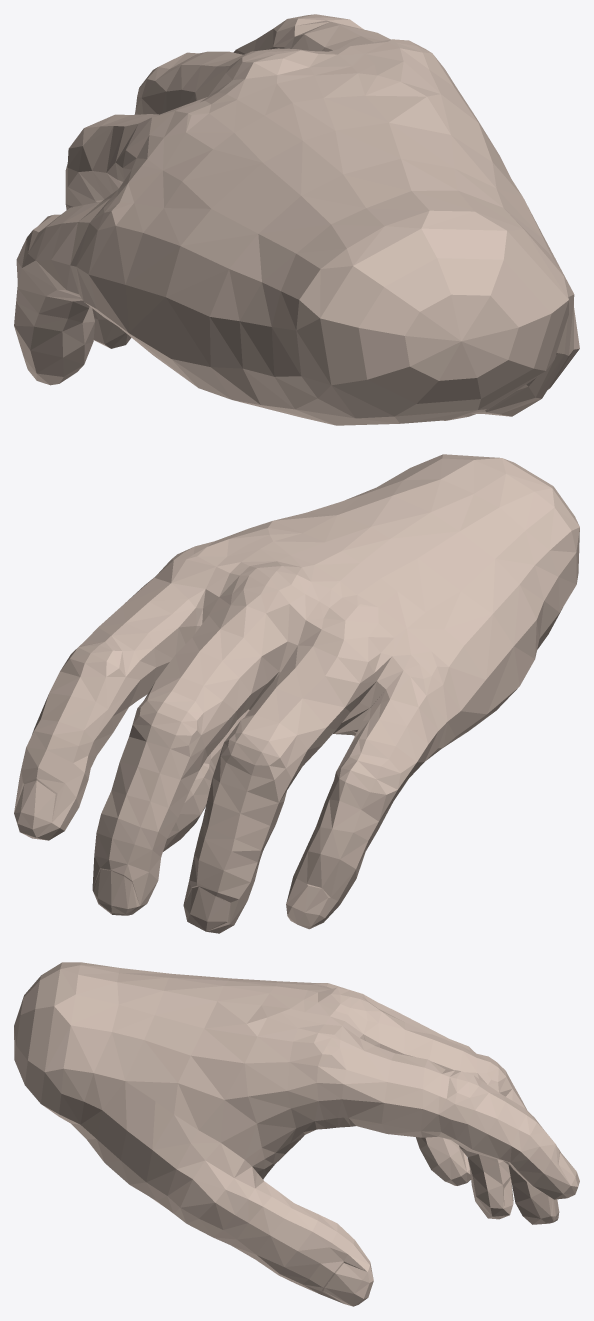
The model's file is LHandLinkFull.dae.
3 views of the same model, one above another, from view 1: azimuth 30°, elevation 25°; view 2: azimuth 150°, elevation 25°; view 3: azimuth 270°, elevation 25° (orthographic). The views are drawn at different scales.
Parts seen in each view (by area): view 1: ShapeIndexedFaceSet; view 2: ShapeIndexedFaceSet, ShapeIndexedFaceSet_001; view 3: ShapeIndexedFaceSet, ShapeIndexedFaceSet_001.
Part boxes in pixels (bbox=[...]): ShapeIndexedFaceSet: bbox=[14, 14, 579, 425]; ShapeIndexedFaceSet: bbox=[14, 454, 579, 933]; ShapeIndexedFaceSet_001: bbox=[14, 780, 328, 931]; ShapeIndexedFaceSet: bbox=[14, 962, 577, 1306]; ShapeIndexedFaceSet_001: bbox=[323, 1152, 579, 1306].
Size of the model in its own units: 0.0848 by 0.159 by 0.0813.
